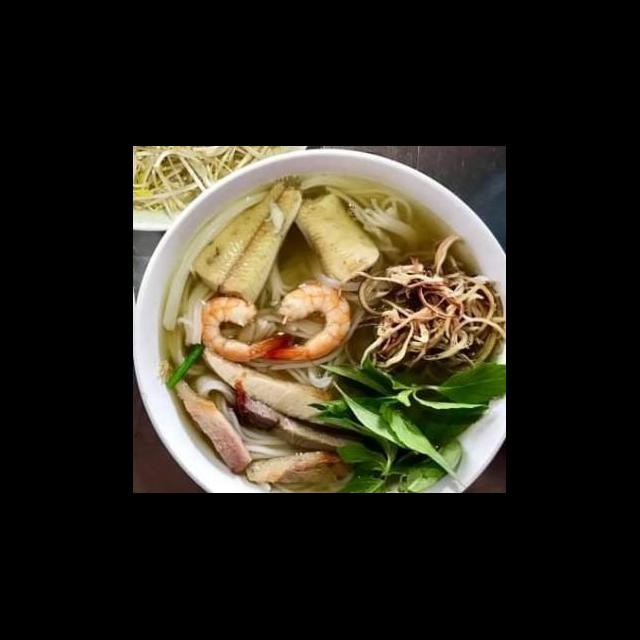bun: (190, 368, 306, 462), (322, 170, 424, 262)
ca: (190, 172, 308, 308), (286, 186, 384, 288)
thit heo quay: (228, 376, 368, 461), (200, 344, 340, 428), (160, 358, 256, 476), (242, 442, 354, 488)
tom: (252, 274, 354, 366), (198, 288, 298, 366)
